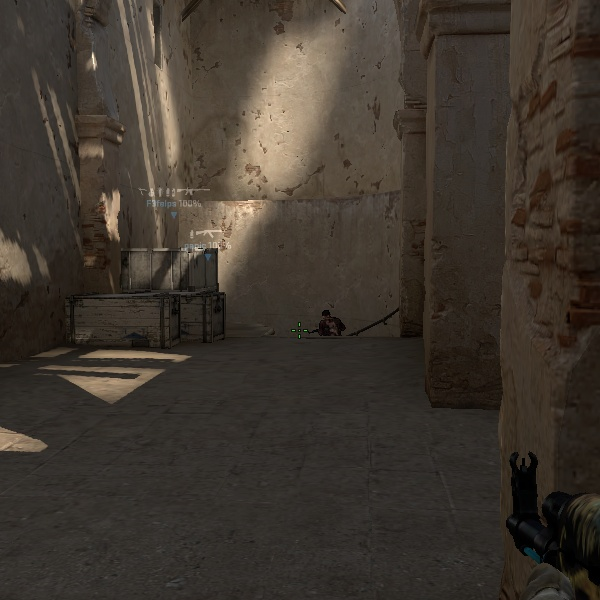t_body: (309, 305, 348, 337)
